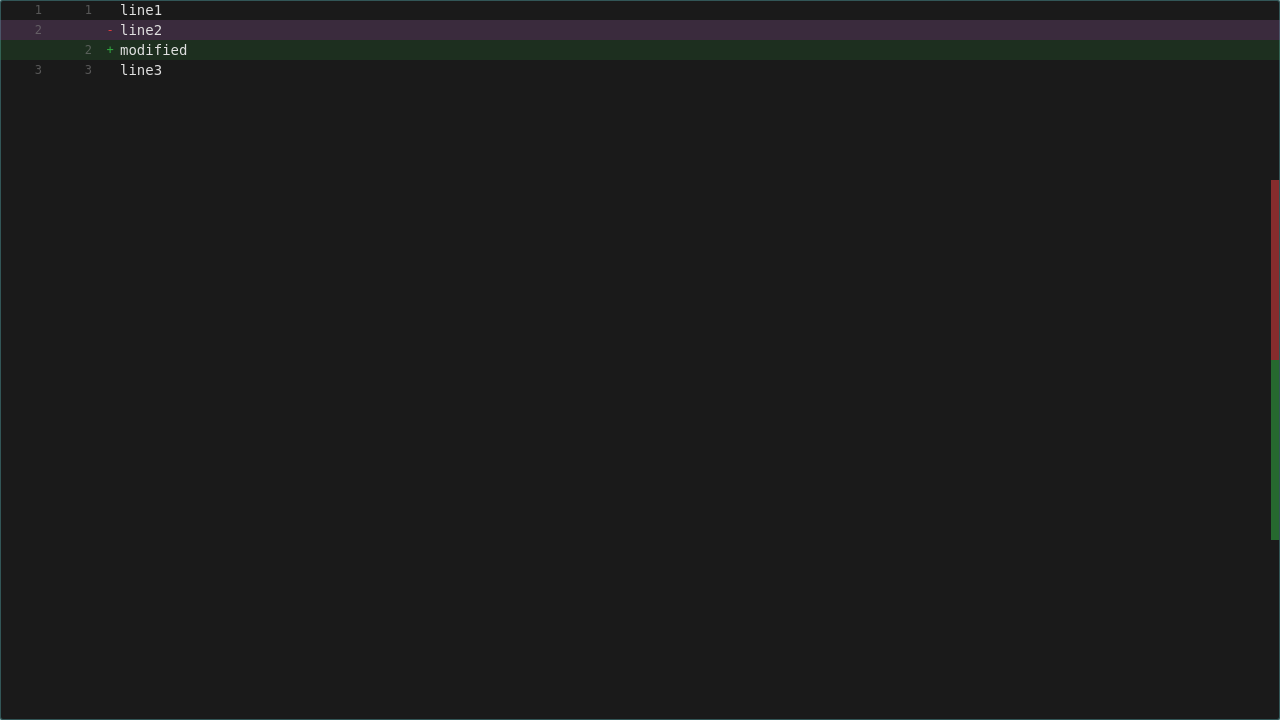
Test: ShikiDiffViewer › file search (Cmd+F) › navigates to next match on Enter
Press f in the element showing "1 1 line1 2 - line2 2 + modified 3 3 line3"
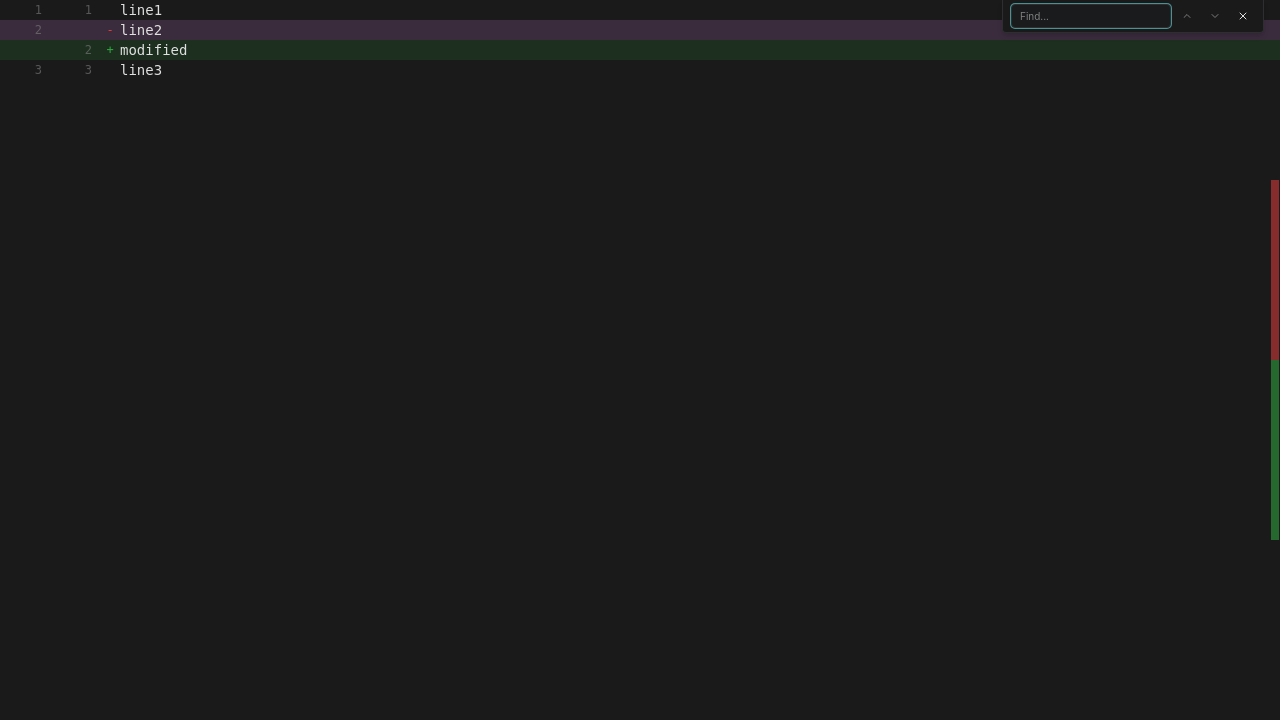
Type "line" into the field with test id "diff-search-input" at (1091, 16), box [1011,4,1171,28]
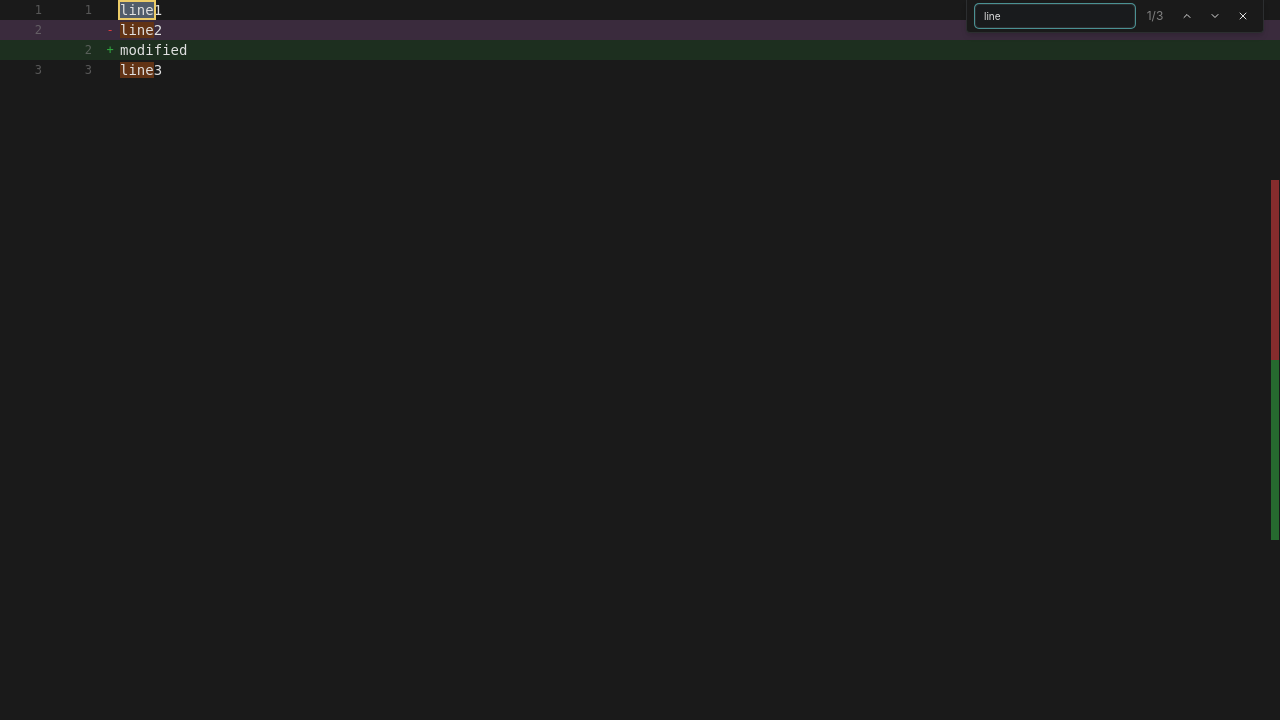
Now the text with test id "diff-search-count" shows "1/", box [1147,8,1163,23]
Press Enter in the field with test id "diff-search-input", box [975,4,1135,28]
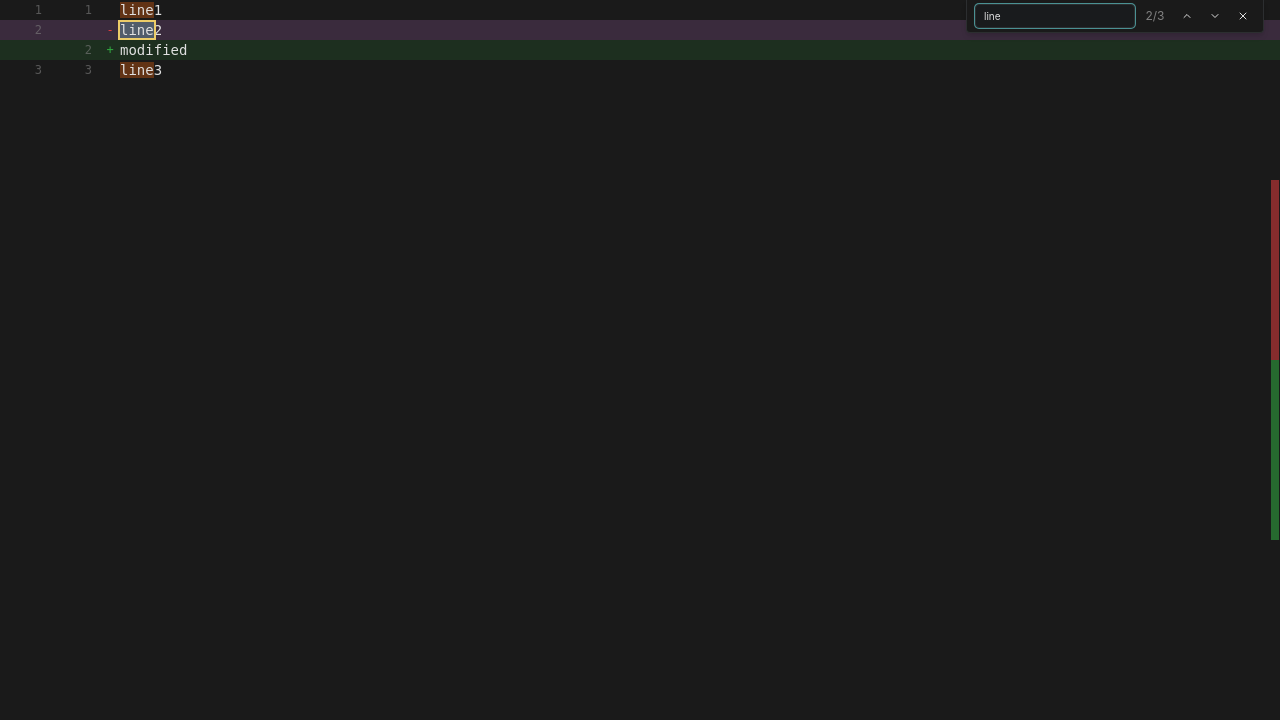
Now the text with test id "diff-search-count" shows "2/", box [1146,8,1165,23]
